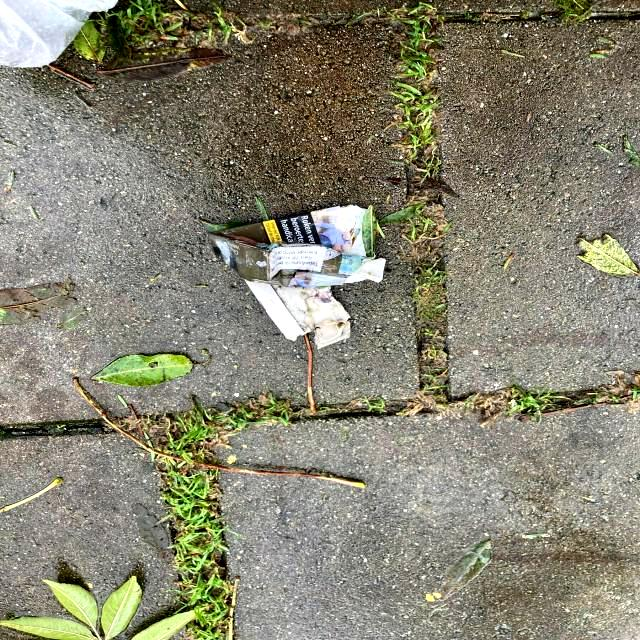Paper: (204, 202, 390, 350)
